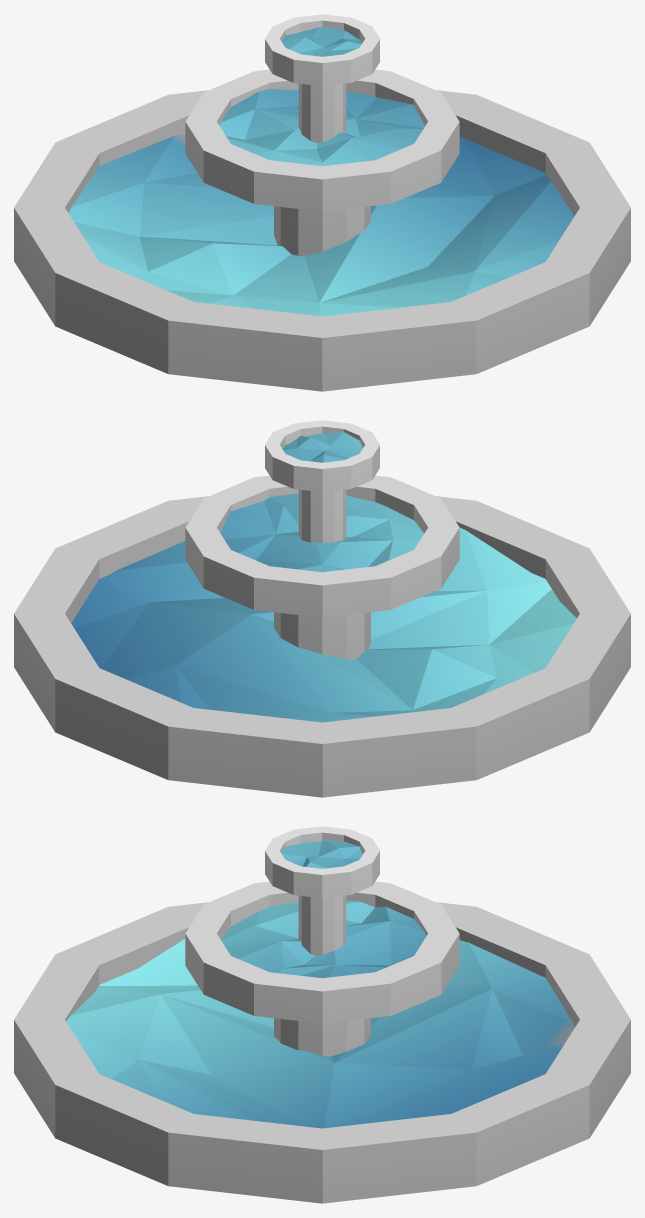
Rendered from fountain.fbx.
The picture shows the model from 3 angles, top to bottom: view 1: azimuth 30°, elevation 25°; view 2: azimuth 150°, elevation 25°; view 3: azimuth 270°, elevation 25°; orthographic projection.
Visible parts, largest first — view 1: fountain; view 2: fountain; view 3: fountain.
Boxes of the visible parts, box(x1,y1,x2,y2) form: fountain: box(14, 14, 630, 391); fountain: box(14, 420, 630, 797); fountain: box(14, 826, 630, 1203).
Size of the model in its own units: 732 by 291 by 732.
